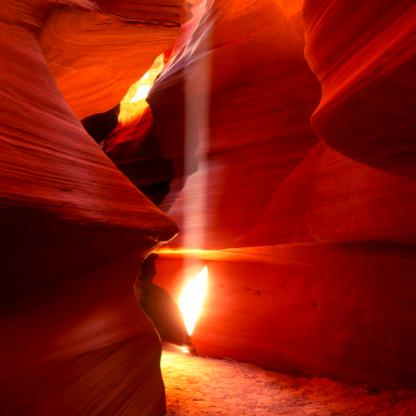Sedimentary_Sandstone: (0, 0, 201, 415), (297, 0, 415, 167)
